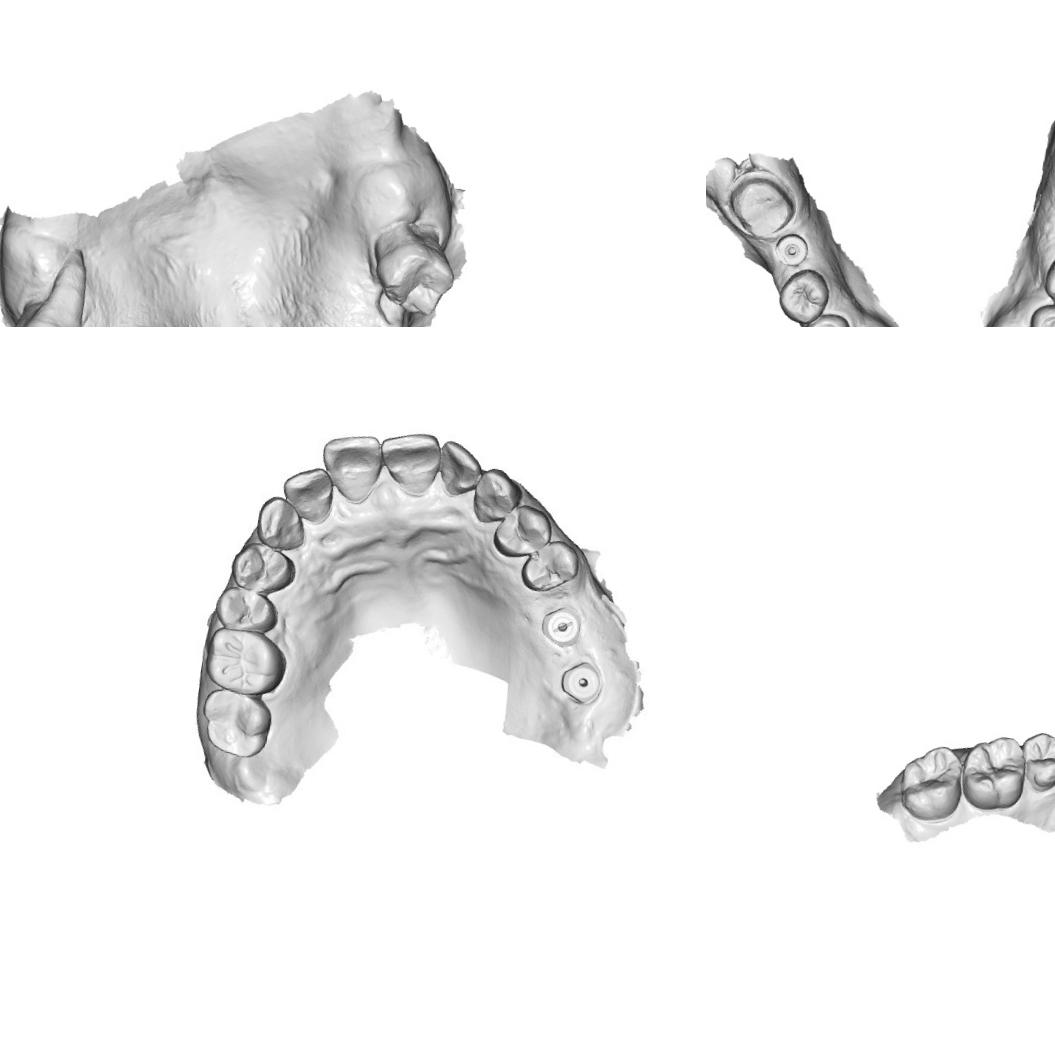canine: (467, 462, 527, 529), (252, 492, 314, 556)
crown: (720, 165, 801, 246)
implant: (558, 657, 608, 707), (771, 230, 811, 270)
implant_minus: (540, 606, 584, 650)
incisor: (315, 428, 389, 507), (373, 426, 444, 499), (276, 459, 337, 528), (432, 437, 486, 501)
molar: (366, 232, 462, 322), (190, 684, 283, 764), (199, 623, 293, 700), (956, 730, 1032, 815), (895, 740, 968, 824), (0, 296, 86, 327)
premolar: (488, 498, 560, 564), (224, 538, 300, 598), (519, 535, 583, 598), (213, 582, 283, 639), (774, 264, 834, 327), (1015, 728, 1055, 795), (798, 309, 855, 327), (1040, 250, 1055, 316), (1025, 300, 1055, 327)
